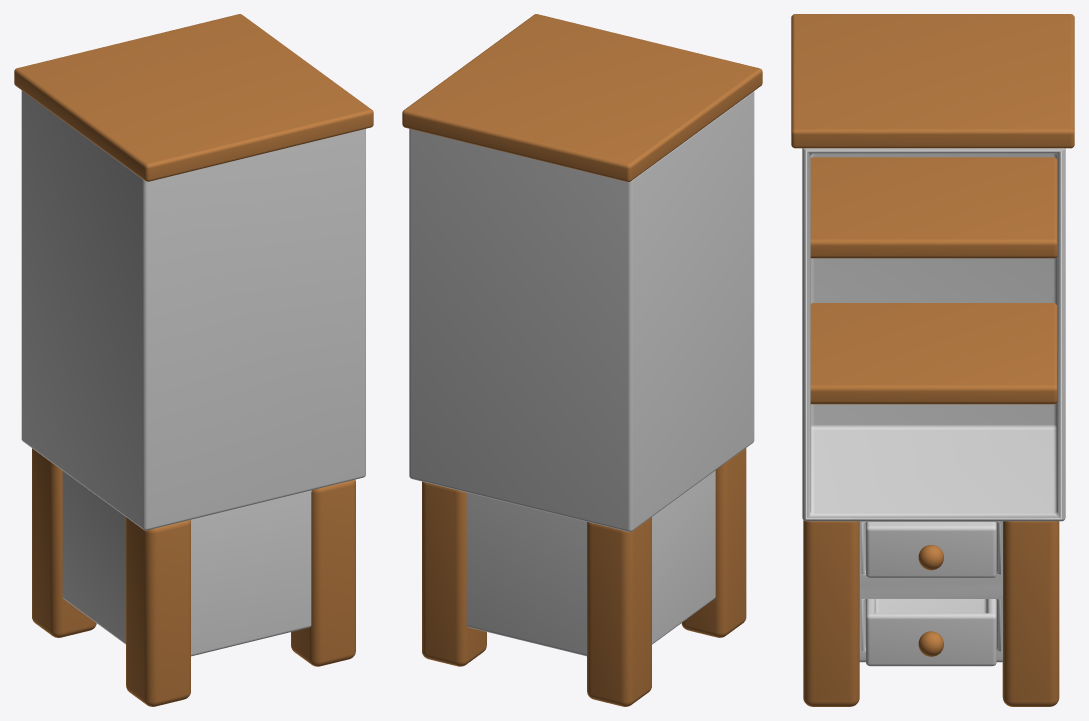
Rendered from simple_library_C.obj.
The picture shows the model from 3 angles, left to right: view 1: azimuth 30°, elevation 25°; view 2: azimuth 150°, elevation 25°; view 3: azimuth 270°, elevation 25°; orthographic projection. The views are drawn at different scales.
Parts seen in each view (by area): view 1: simple_library_C; view 2: simple_library_C; view 3: simple_library_C.
Boxes of the visible parts, x1,y1,x2,y2 form: simple_library_C: (14, 14, 373, 706); simple_library_C: (402, 14, 762, 706); simple_library_C: (791, 14, 1074, 706).
Size of the model in its own units: 0.731 by 1.48 by 0.6498.
